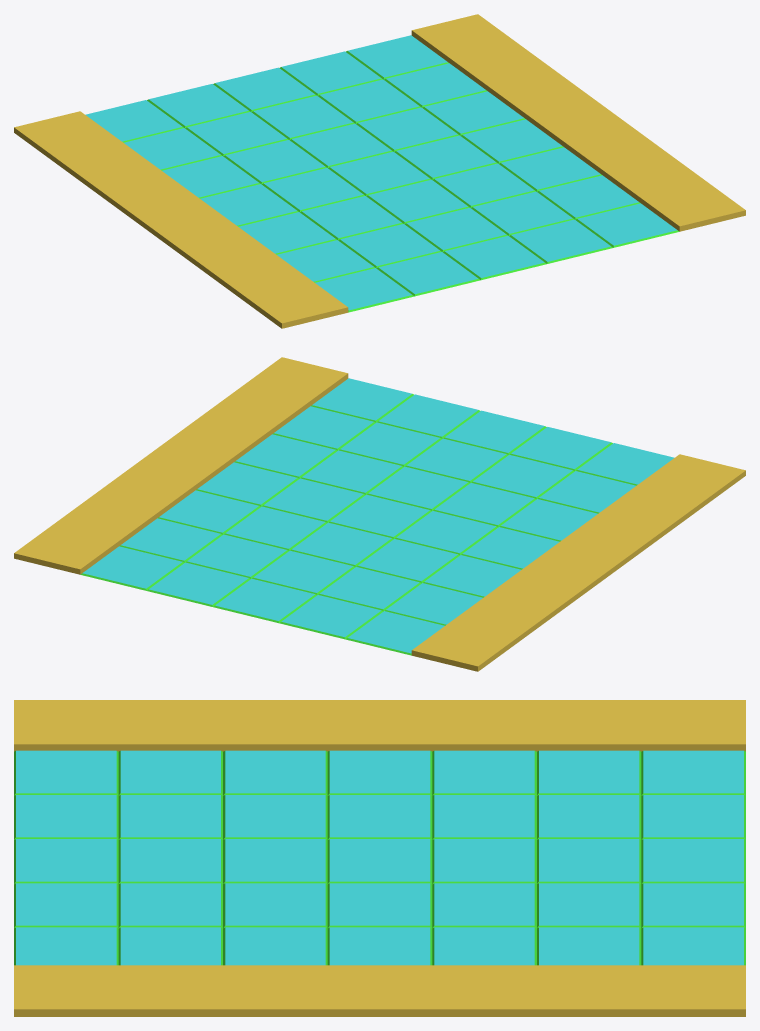
Rendered from Floor_08_Middle_C.fbx.
3 renders of one model, top to bottom at view 1: azimuth 30°, elevation 25°; view 2: azimuth 150°, elevation 25°; view 3: azimuth 270°, elevation 25°, orthographic. The views are drawn at different scales.
Visible parts, largest first — view 1: Floor_08_Middle_C; view 2: Floor_08_Middle_C; view 3: Floor_08_Middle_C.
Part boxes in pixels (x1,y1,x2,y2): Floor_08_Middle_C: [14, 14, 745, 328]; Floor_08_Middle_C: [14, 357, 745, 671]; Floor_08_Middle_C: [14, 700, 745, 1016].
Size of what is drawn, in the model's own units: 457 by 5.08 by 457.
